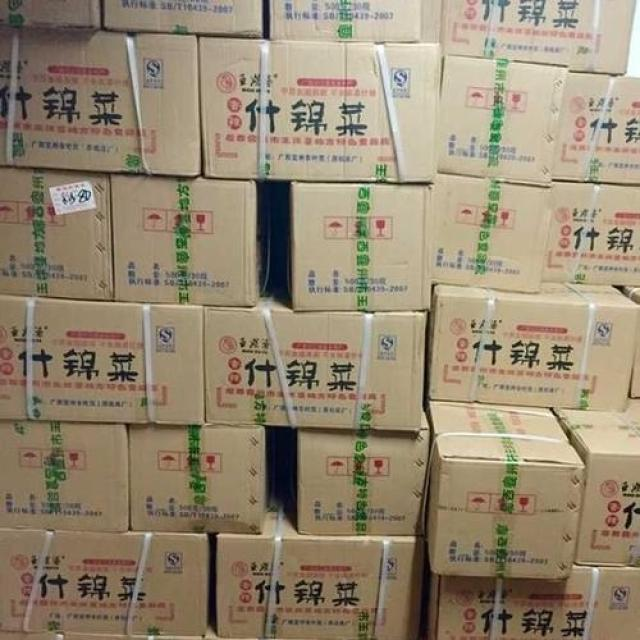box: (197, 35, 439, 184), (202, 283, 431, 435), (422, 385, 586, 584), (216, 486, 426, 639), (0, 27, 200, 177), (425, 282, 640, 412), (0, 293, 204, 425), (0, 529, 215, 640), (110, 174, 273, 306), (419, 550, 640, 640), (287, 182, 435, 315), (284, 403, 430, 536), (435, 55, 568, 188), (128, 422, 278, 535), (421, 0, 636, 74), (0, 168, 115, 303), (0, 419, 128, 532), (433, 172, 553, 292), (552, 408, 640, 567), (540, 184, 640, 288), (553, 72, 640, 186), (269, 0, 422, 41), (102, 0, 265, 37), (625, 306, 640, 412), (617, 285, 640, 306)
